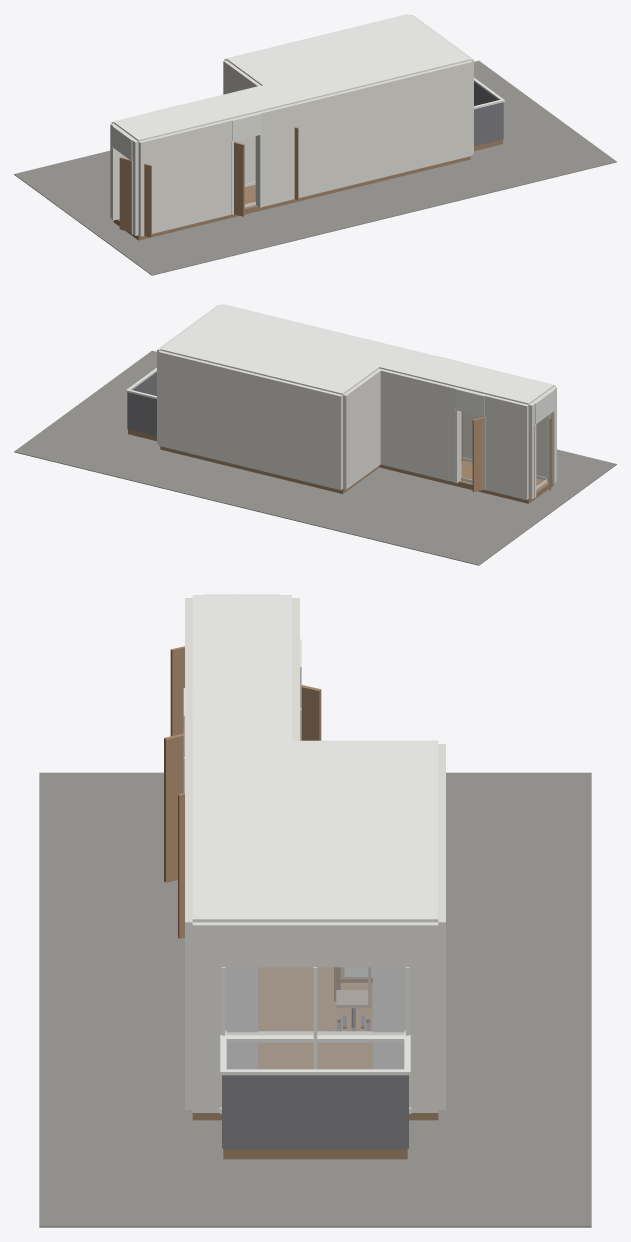
The model's file is apartment_reconstruction.glb.
3 renders of one model, top to bottom at view 1: azimuth 30°, elevation 25°; view 2: azimuth 150°, elevation 25°; view 3: azimuth 270°, elevation 25°, orthographic. The views are drawn at different scales.
Visible parts, largest first — view 1: Ground, WallRight, Ceiling_Bedroom, WallCor_Bot_A, Ceiling_Corridor, WallCor_Bot_B, DoorExit_Leaf, BalconyRail_Y0, Floor_Corridor, DoorCorSide2_Leaf, Floor_Bedroom, WallCor_Top_B (+6 smaller); view 2: Ground, WallLeft, Ceiling_Bedroom, WallCor_Top_B, WallCor_Top_A, Ceiling_Corridor, WallDoor_R, WallCor_Bot_A, BalconyRail_Y1, Floor_Corridor, DoorCorSide1_Leaf, Floor_Bedroom (+5 smaller); view 3: Ground, Ceiling_Bedroom, Window_Glass, Ceiling_Corridor, BalconyRail_Far, Floor_Bedroom, WallWin_Header, WallWin_L, WallWin_R, Curtain_L, Curtain_R, WallRight (+8 smaller).
Boxes of the visible parts, box(x1,y1,x2,y2) form: Ground: box(14, 60, 616, 275); WallRight: box(288, 60, 472, 200); Ceiling_Bedroom: box(226, 14, 470, 104); WallCor_Bot_A: box(138, 119, 232, 236); Ceiling_Corridor: box(113, 85, 287, 141); WallCor_Bot_B: box(259, 105, 289, 206); DoorExit_Leaf: box(119, 157, 151, 237); BalconyRail_Y0: box(474, 102, 503, 146); Floor_Corridor: box(113, 184, 287, 240); DoorCorSide2_Leaf: box(234, 141, 244, 216); Floor_Bedroom: box(288, 156, 470, 203); WallCor_Top_B: box(183, 85, 261, 183); Ground: box(14, 350, 616, 565); WallLeft: box(158, 350, 342, 490); Ceiling_Bedroom: box(160, 304, 403, 394); WallCor_Top_B: box(377, 368, 457, 482); WallCor_Top_A: box(484, 394, 528, 499); Ceiling_Corridor: box(379, 349, 553, 404); WallDoor_R: box(343, 368, 380, 489); WallCor_Bot_A: box(462, 362, 555, 477); BalconyRail_Y1: box(127, 392, 156, 436); Floor_Corridor: box(379, 460, 553, 503); DoorCorSide1_Leaf: box(472, 417, 483, 491); Floor_Bedroom: box(160, 446, 379, 493); Ground: box(39, 772, 591, 1227); Ceiling_Bedroom: box(192, 741, 438, 922); Window_Glass: box(225, 967, 405, 1068); Ceiling_Corridor: box(192, 595, 292, 741); BalconyRail_Far: box(223, 1075, 407, 1149); Floor_Bedroom: box(192, 967, 438, 1120); WallWin_Header: box(223, 922, 407, 967); WallWin_L: box(192, 922, 223, 1112); WallWin_R: box(407, 922, 438, 1112); Curtain_L: box(225, 967, 257, 1069); Curtain_R: box(373, 967, 405, 1069); WallRight: box(185, 744, 192, 1109).
Size of the model in its own units: 14 by 2.92 by 7.2.
